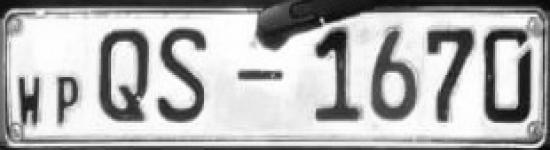-: (233, 63, 289, 88)
0: (478, 24, 534, 127)
1: (308, 23, 366, 130)
6: (366, 20, 423, 128)
7: (420, 20, 479, 129)
P: (53, 74, 82, 128)
Q: (91, 21, 153, 126)
S: (150, 21, 216, 128)
W: (10, 73, 44, 129)
